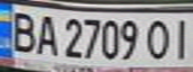0: (100, 16, 121, 61)
2: (60, 15, 84, 60)
7: (78, 16, 103, 61)
9: (118, 16, 142, 61)
A: (33, 11, 60, 56)
B: (3, 8, 39, 54)
I: (169, 15, 193, 60)
O: (142, 16, 175, 61)
